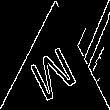M_SE: (26, 40, 84, 107)
